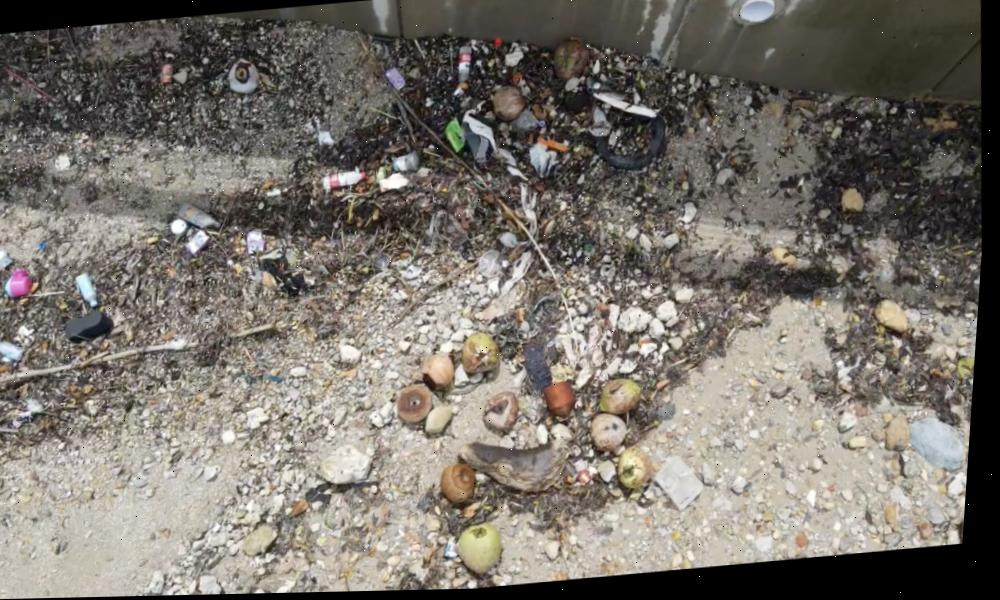plastic bottle: (321, 170, 368, 195), (454, 45, 477, 96), (80, 271, 103, 309), (0, 339, 26, 363)
